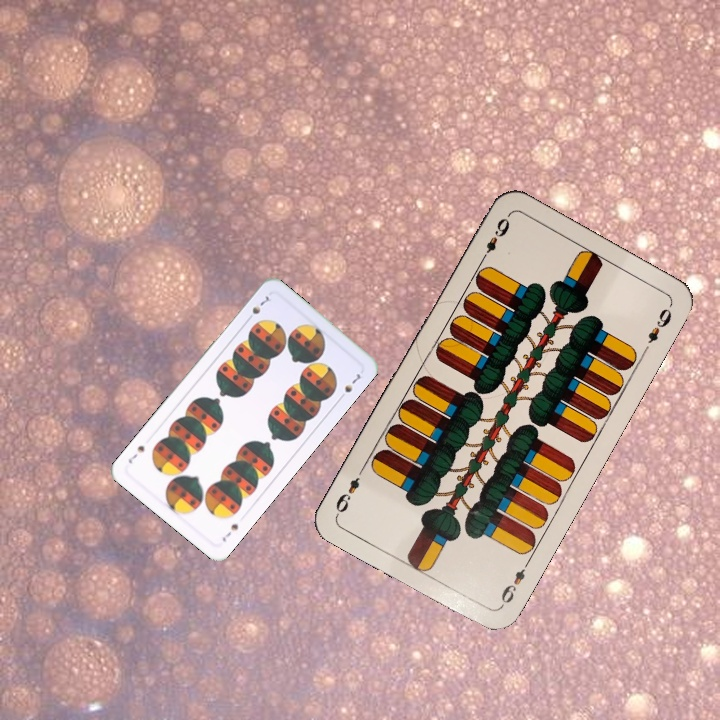E9: (496, 556, 533, 610), (476, 212, 512, 265)
S7: (242, 292, 273, 324), (218, 519, 241, 544)
